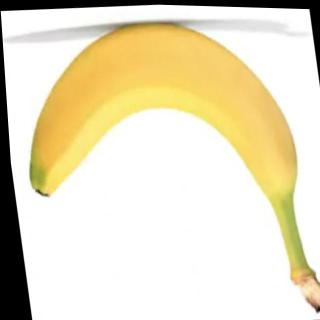banana: (7, 6, 303, 218)
